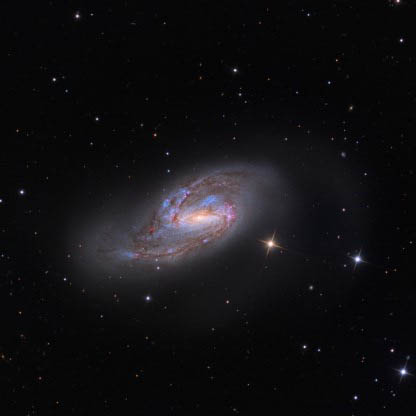Messier 66: (91, 155, 296, 286)
